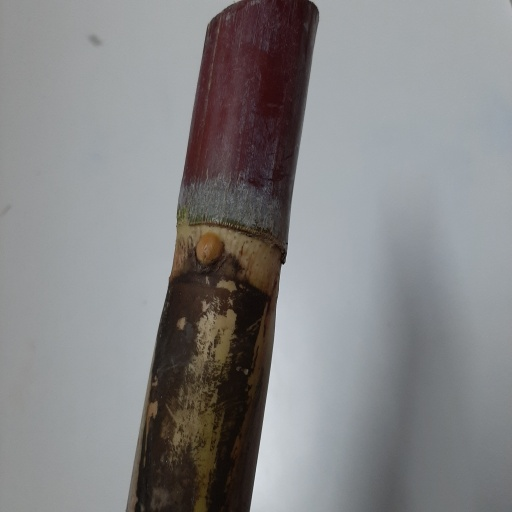Bud: (195, 232, 225, 267)
